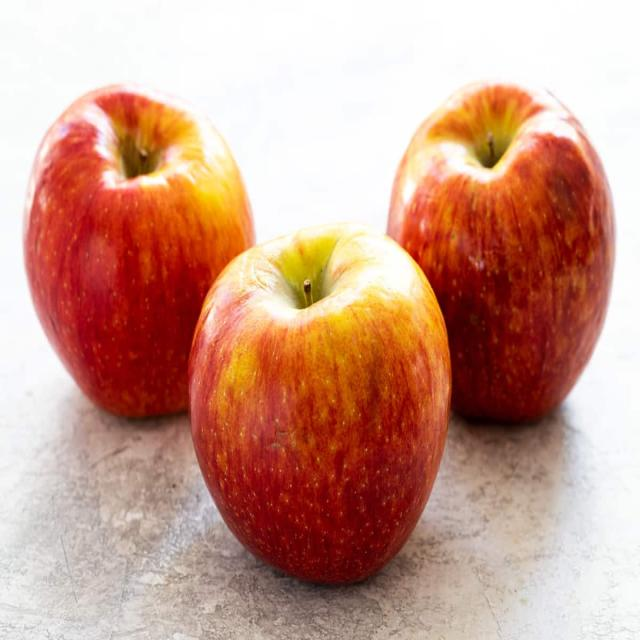Red Apple: (386, 71, 618, 424), (21, 81, 260, 419)
